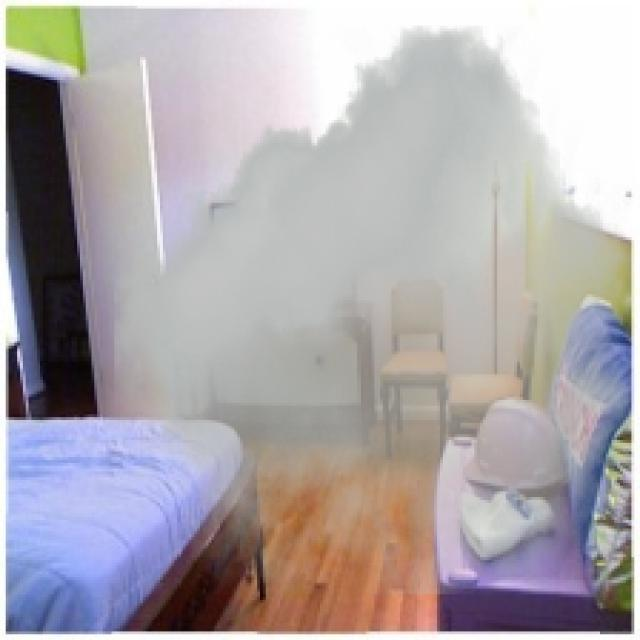Smoke: (115, 26, 634, 594)
